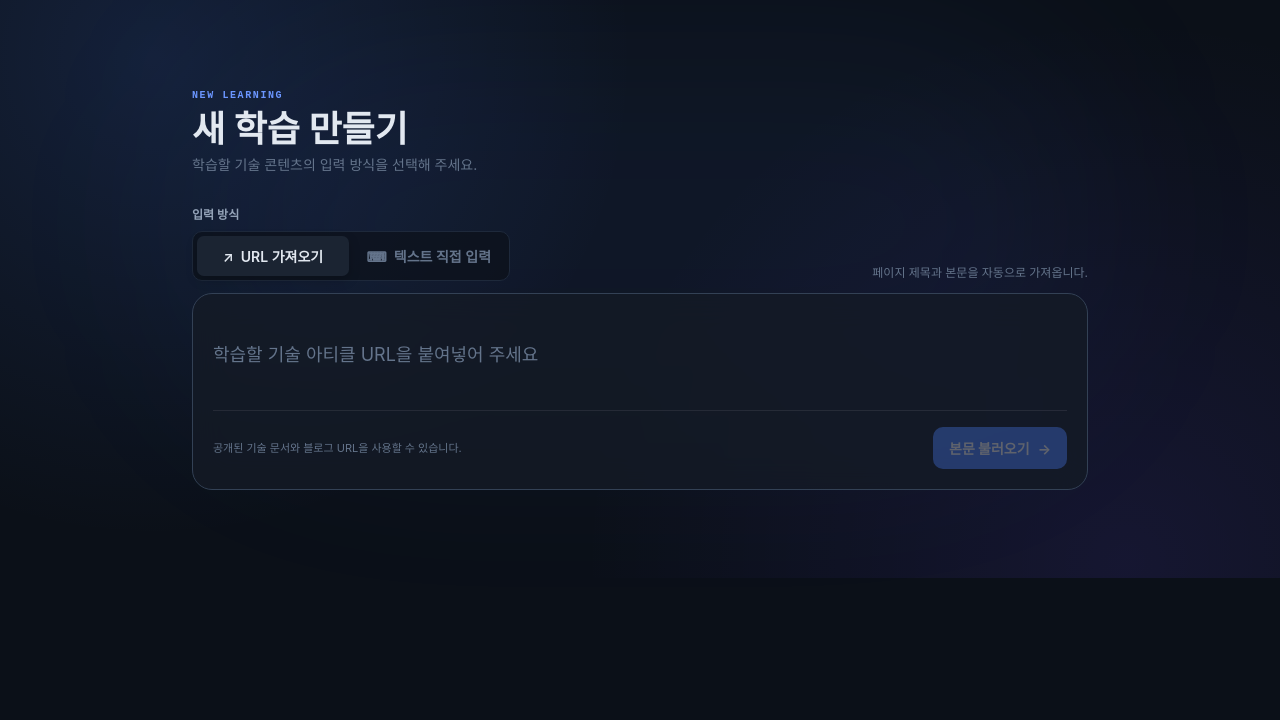
it: HomePage › URL 추출 동작 통합 테스트 › 추출 실패 시 에러 메시지를 렌더링한다
Type "https://example.com/extract-fail" into the field labelled "기술 아티클 URL" at (640, 354), box [213,314,1067,394]
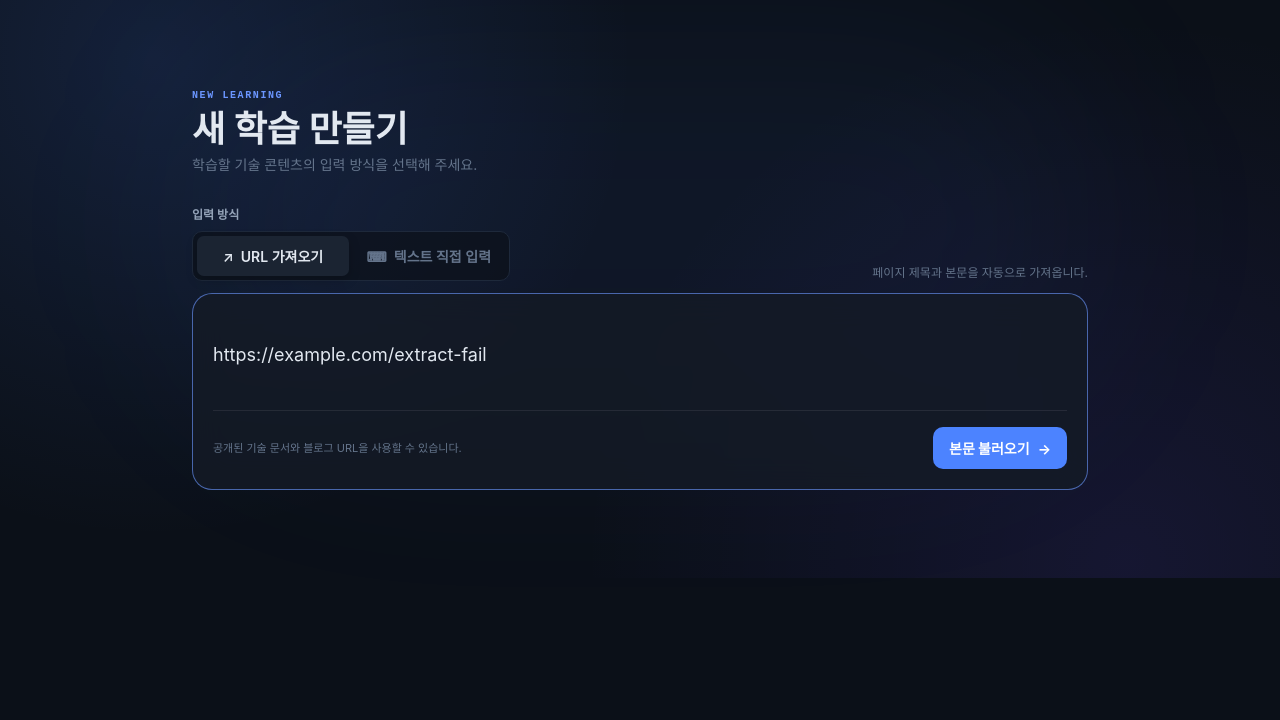
Click the button "본문 불러오기 →" at (1000, 448), box [933,427,1067,469]
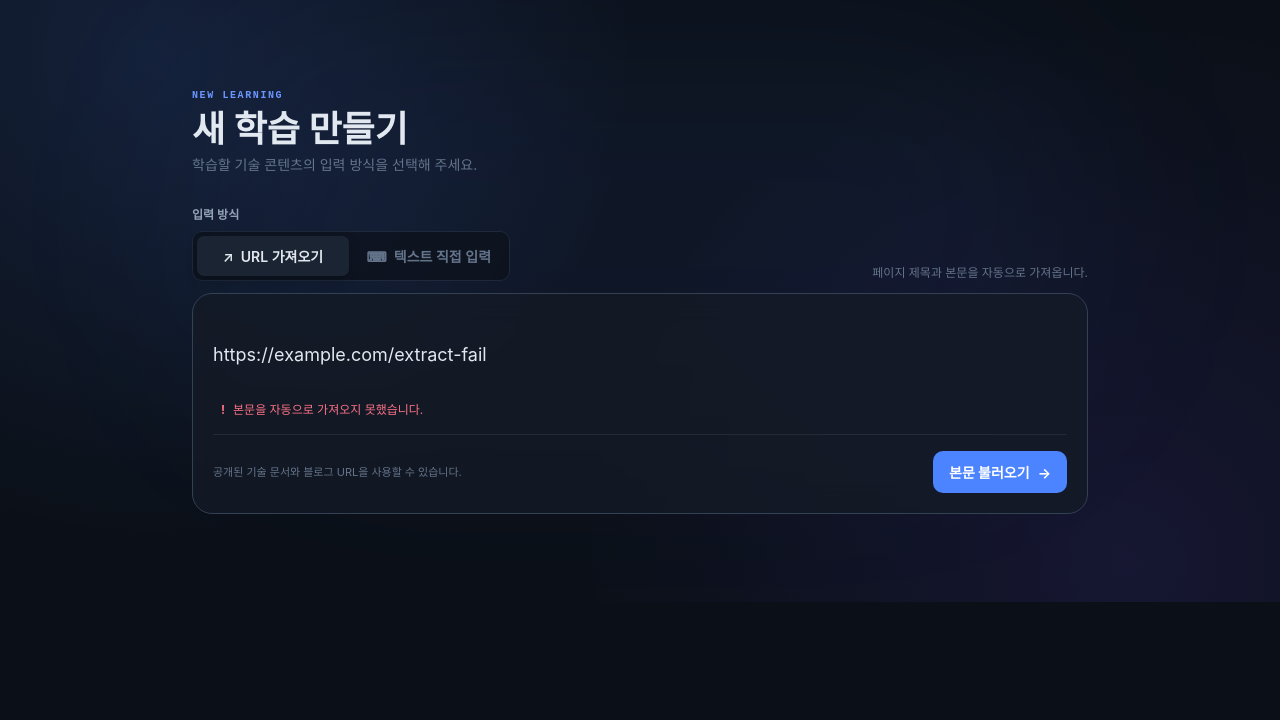
Check: the text "본문을 자동으로 가져오지 못했습니다." is shown, box [233,402,423,418]
